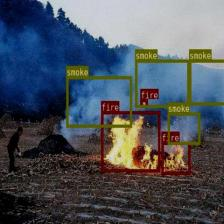fire: (101, 111, 160, 172), (161, 142, 190, 174), (140, 98, 147, 107)
smoke: (66, 76, 132, 127), (135, 59, 189, 107), (189, 59, 224, 104), (168, 113, 200, 144)
